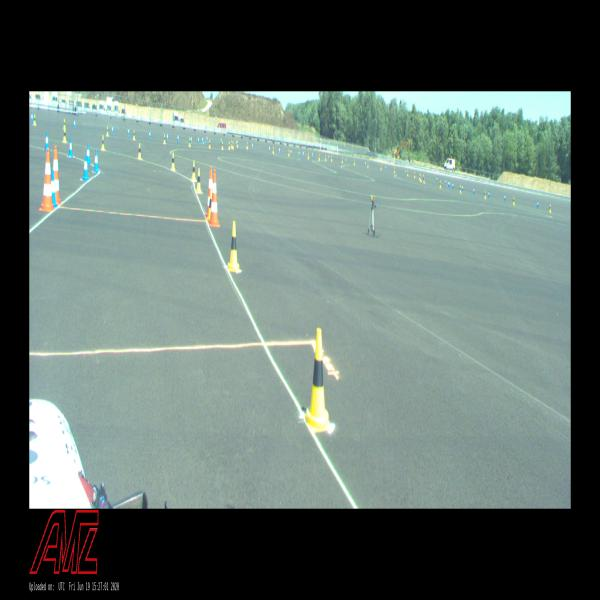blue_cone: (52, 170, 58, 208), (83, 154, 89, 181), (94, 150, 99, 172), (68, 138, 73, 157), (87, 143, 91, 164), (44, 132, 48, 151), (30, 112, 34, 123), (74, 118, 76, 129), (112, 125, 114, 135), (149, 130, 151, 140), (128, 127, 130, 136), (177, 133, 179, 142), (190, 136, 192, 144), (198, 136, 200, 144), (202, 136, 204, 144), (461, 184, 463, 192), (504, 194, 506, 202), (447, 180, 449, 187), (206, 136, 208, 142), (220, 137, 222, 143), (167, 132, 168, 142), (252, 142, 253, 150), (449, 180, 450, 188), (473, 187, 474, 195), (537, 200, 538, 208), (452, 182, 453, 189), (488, 191, 489, 198), (236, 140, 237, 146), (445, 179, 446, 185)
large_orange_cone: (40, 149, 54, 211), (209, 170, 220, 227), (53, 146, 61, 205), (205, 167, 212, 218)
yellow_cone: (305, 328, 331, 432), (227, 221, 240, 272), (207, 190, 212, 222), (196, 168, 202, 193), (170, 153, 176, 170), (192, 161, 196, 181), (63, 126, 67, 143), (138, 143, 142, 159), (101, 135, 105, 150), (106, 126, 109, 136), (133, 130, 136, 140), (163, 134, 166, 144), (459, 185, 462, 193), (34, 114, 36, 125), (64, 119, 66, 129), (484, 190, 486, 199), (512, 196, 514, 205), (549, 204, 551, 213), (439, 180, 441, 188), (189, 138, 191, 146), (222, 141, 224, 149), (228, 141, 230, 149), (231, 140, 233, 148), (232, 142, 234, 148), (209, 140, 210, 148), (247, 142, 248, 150), (237, 141, 238, 147)
